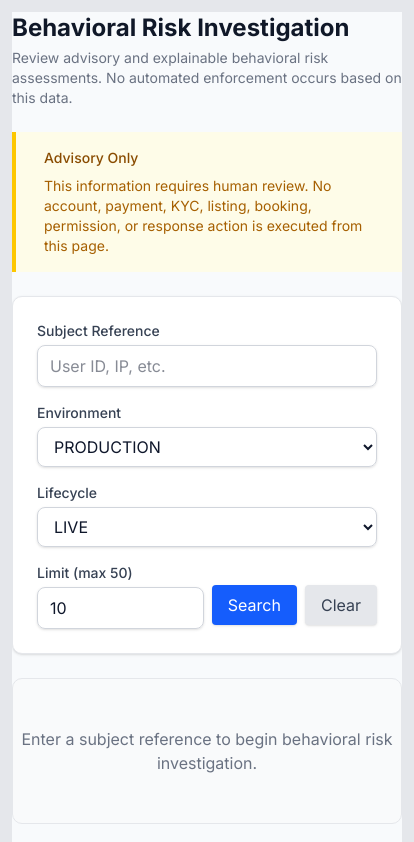
Test: Behavioral Risk Investigation Dashboard (Slice 4) › Client Interactions and Validation › 10. Latest assessment summary renders safely, 11. History renders in API-provided order, 14. Empty state is handled
The width and height of the screenshot is (414, 842).
Type "user-123" into the field labelled "Subject Reference" at (207, 366), box x1=37 y1=345 x2=377 y2=387
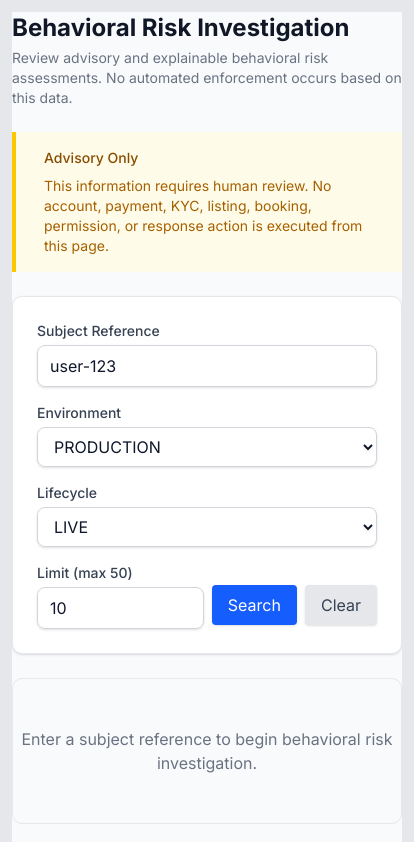
Submit the form "Search", box x1=12 y1=296 x2=402 y2=654
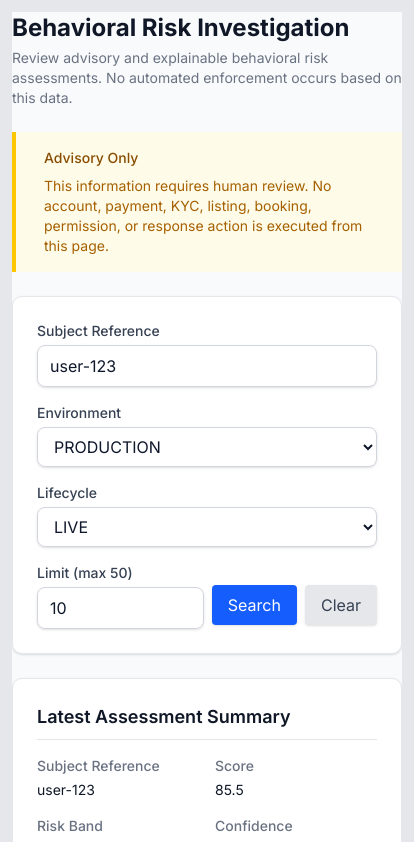
Now the heading "Latest Assessment Summary" is shown, box x1=37 y1=703 x2=377 y2=740
Now the text "85.5" is shown, box x1=215 y1=781 x2=244 y2=798
Now the text "HIGH" is shown 4 times
